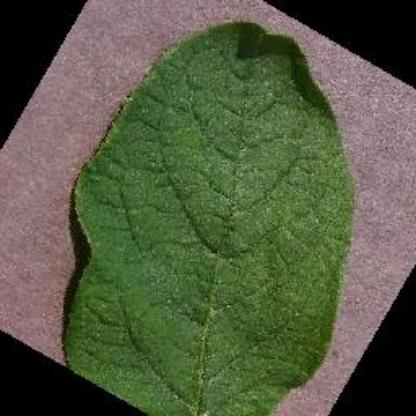Healthy-plant: (52, 15, 362, 415)
